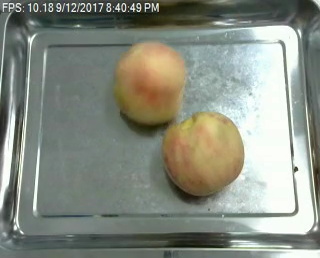Peach: (162, 110, 244, 196), (114, 39, 187, 125)
